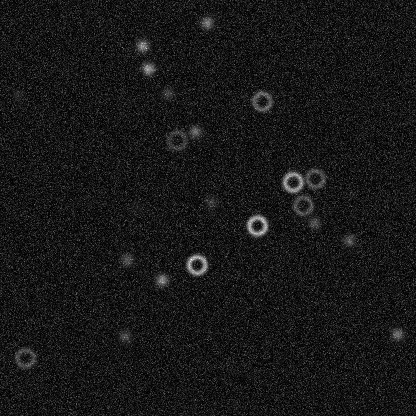Ring: (290, 193, 314, 217), (249, 89, 273, 113), (165, 128, 189, 152), (280, 170, 304, 194), (303, 166, 327, 190), (245, 213, 269, 237), (13, 345, 37, 369), (184, 252, 208, 276)
Spot: (198, 14, 214, 30), (203, 194, 219, 210), (134, 37, 150, 53), (340, 232, 356, 248), (159, 85, 175, 101), (116, 328, 132, 344), (118, 251, 134, 267), (153, 271, 169, 287), (187, 123, 203, 139), (306, 214, 322, 230), (389, 326, 405, 342), (128, 199, 144, 215), (140, 60, 156, 76), (9, 87, 25, 103)
